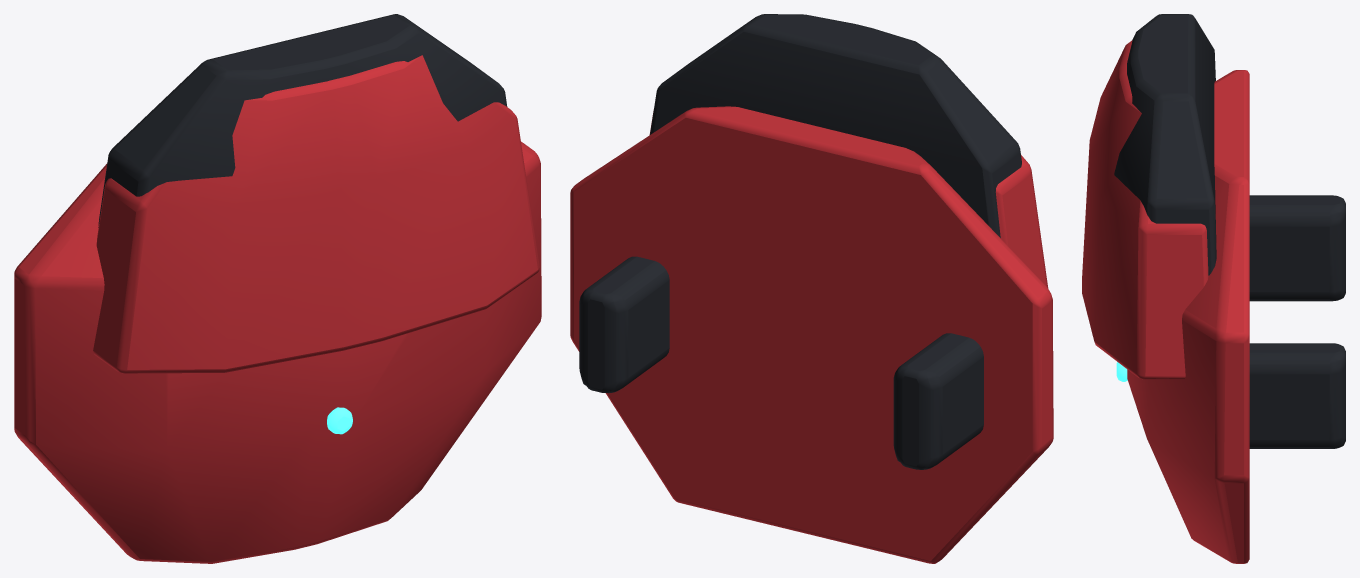
The model's file is Skel_JointGuard.fbx.
3 renders of one model, left to right at view 1: azimuth 30°, elevation 25°; view 2: azimuth 150°, elevation 25°; view 3: azimuth 270°, elevation 25°, orthographic. The views are drawn at different scales.
Visible parts, largest first — view 1: Skel_JointGuard; view 2: Skel_JointGuard; view 3: Skel_JointGuard.
Boxes of the visible parts, x1=… form: Skel_JointGuard: x1=14, y1=14, x2=541, y2=563; Skel_JointGuard: x1=570, y1=14, x2=1053, y2=563; Skel_JointGuard: x1=1082, y1=14, x2=1345, y2=563.
Bounding box in the file's own units: 0.3 × 0.284 × 0.1508.
